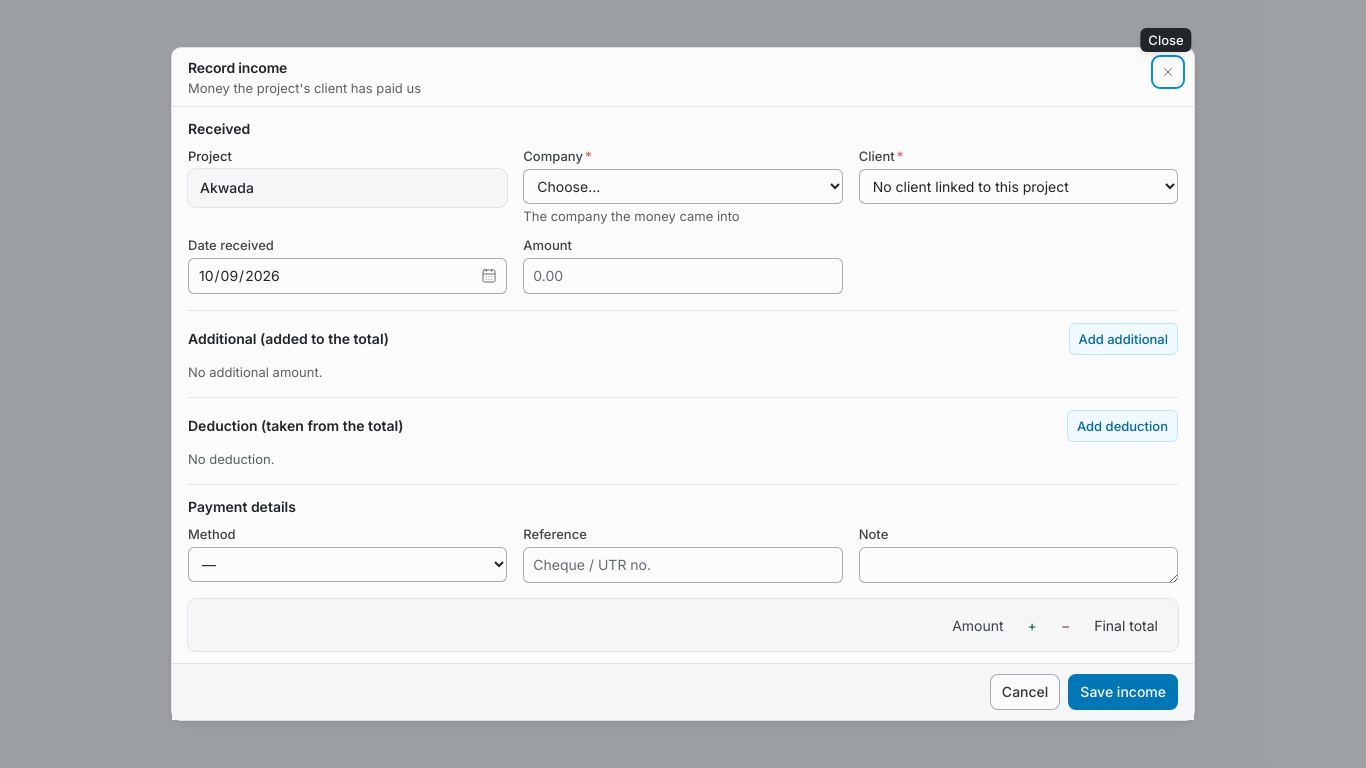
Test: ClientIncomeFormDialog › warns when the deductions are more than the amount
In the field labelled "Amount": (683, 276) [523, 258, 843, 294], type "100"
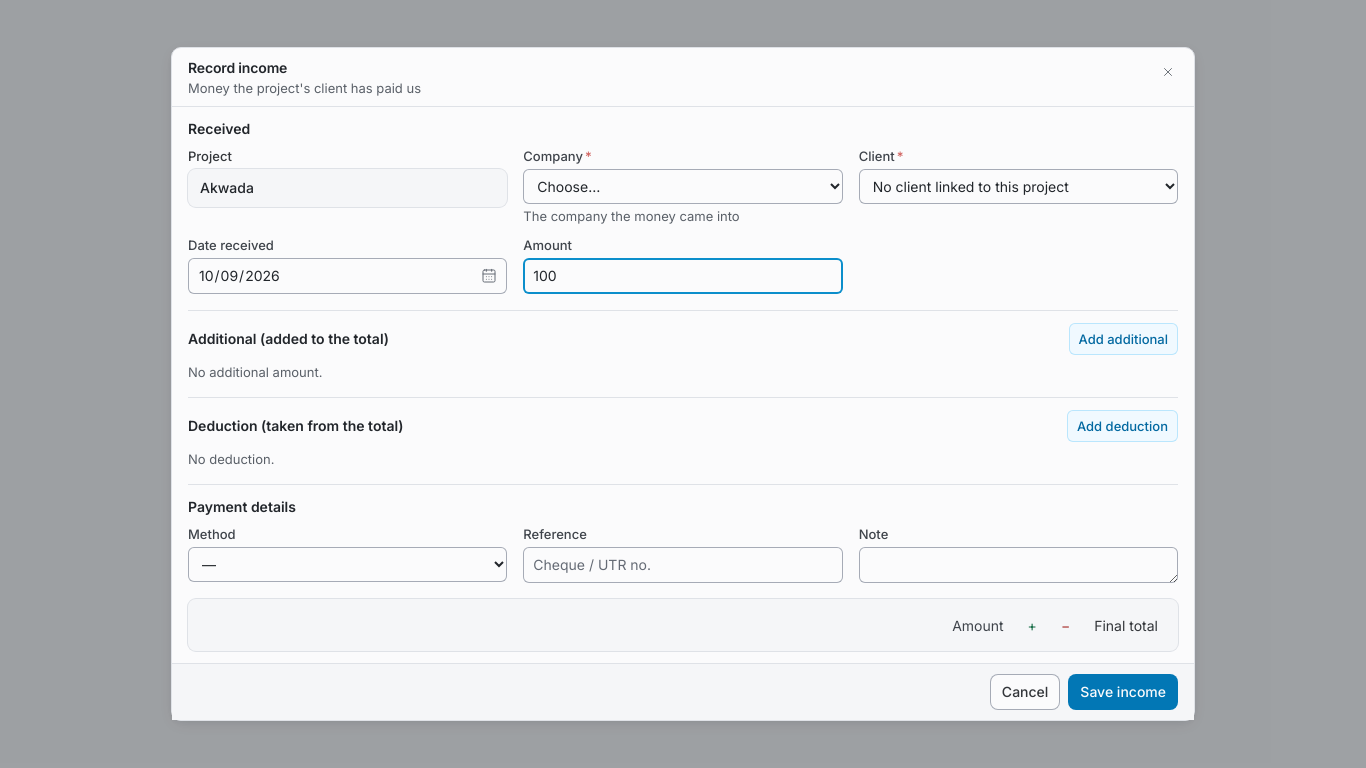
Click the button "Add deduction": (1122, 426) [1067, 410, 1178, 442]
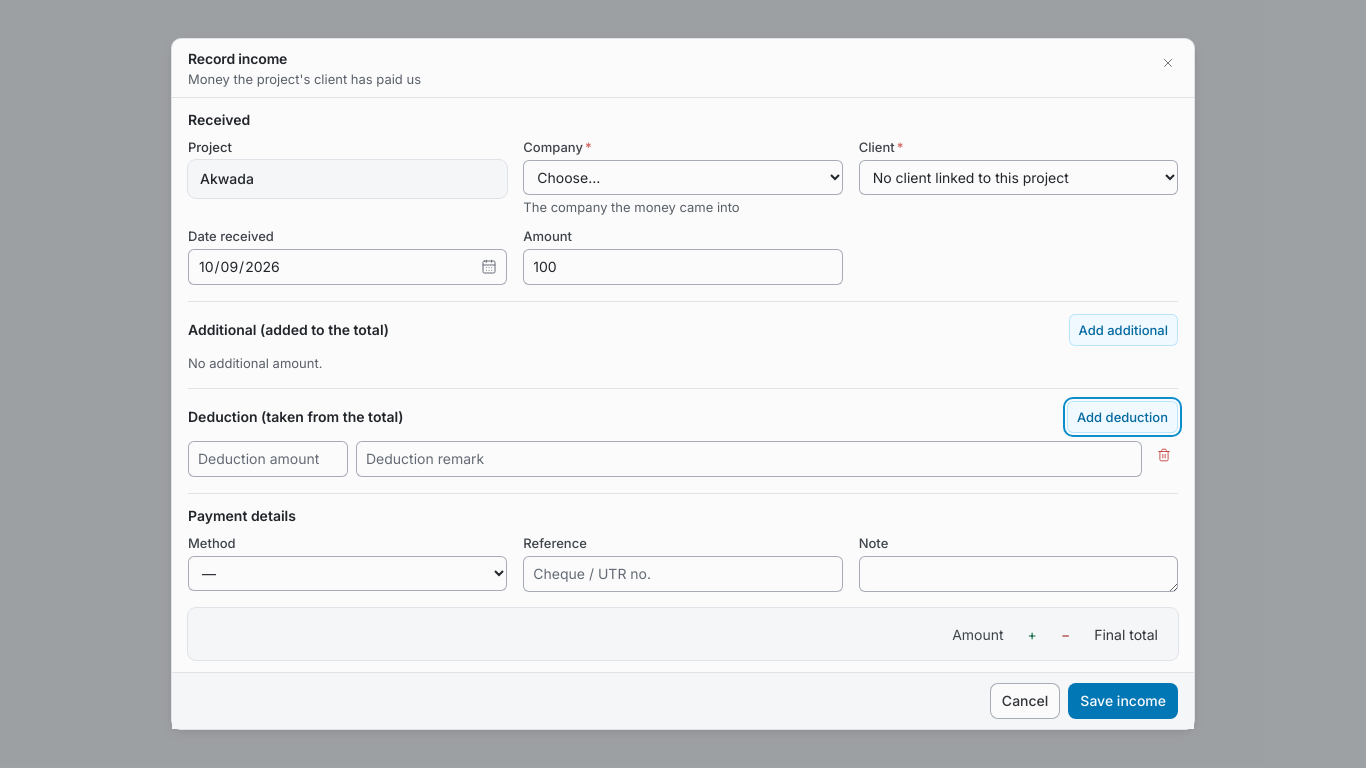
In the field named "Deduction amount 1": (268, 459) [188, 441, 348, 477], type "150"
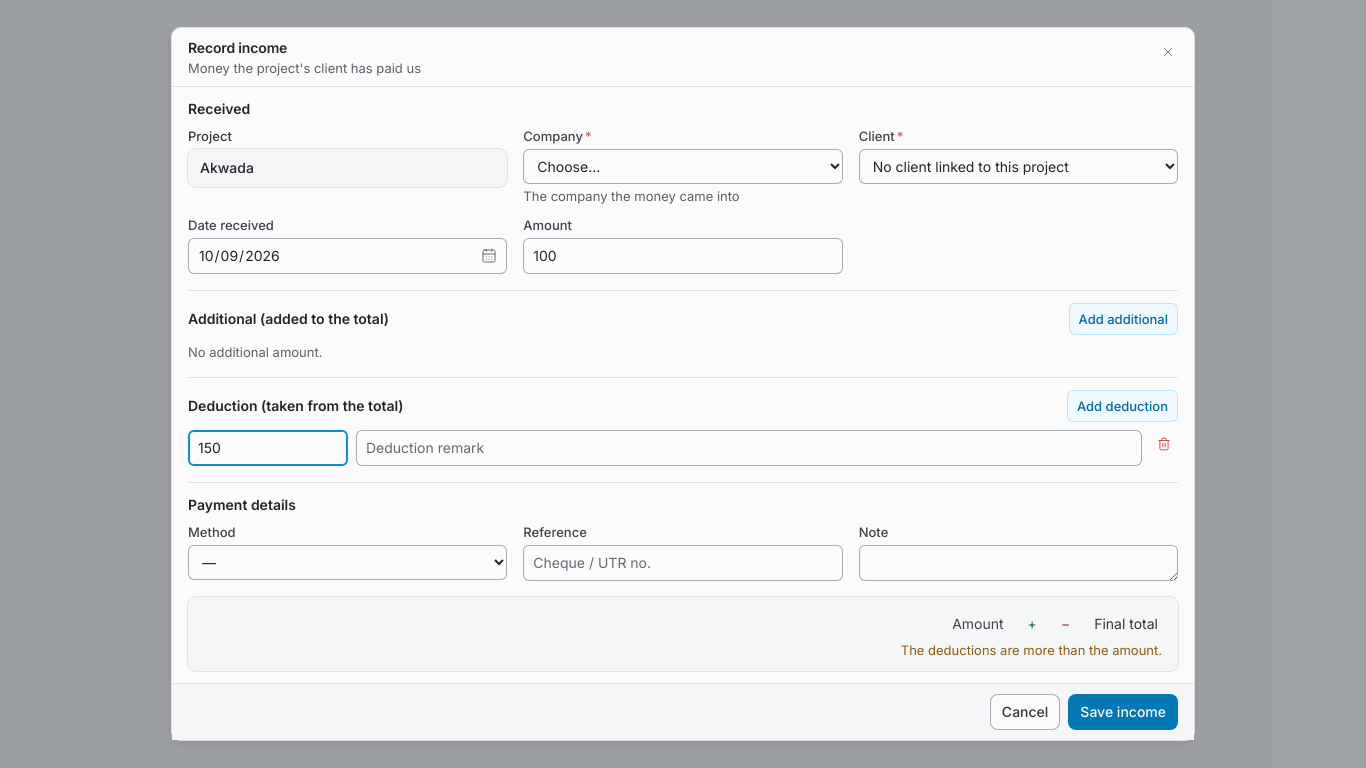
Expected: the text "The deductions are more than the amount." is shown, [901, 642, 1162, 658]
